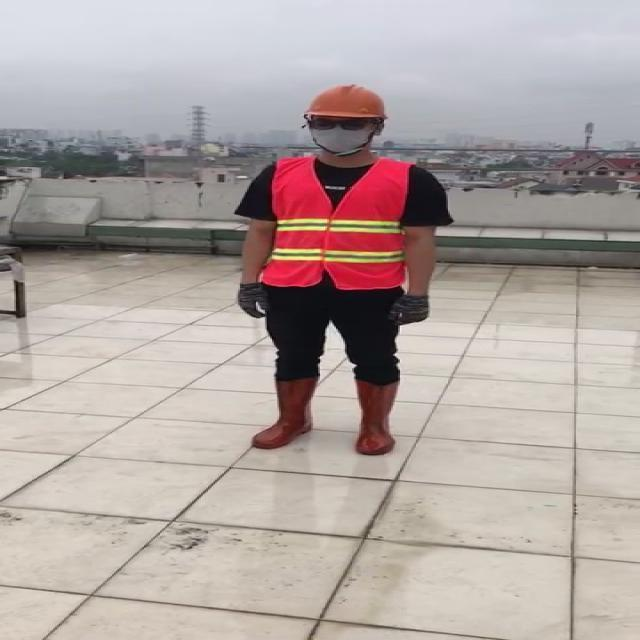gloves: (388, 292, 431, 326), (234, 282, 271, 320)
goggles: (304, 118, 380, 132)
helmet: (301, 81, 392, 122)
safety_vest: (263, 155, 409, 287)
